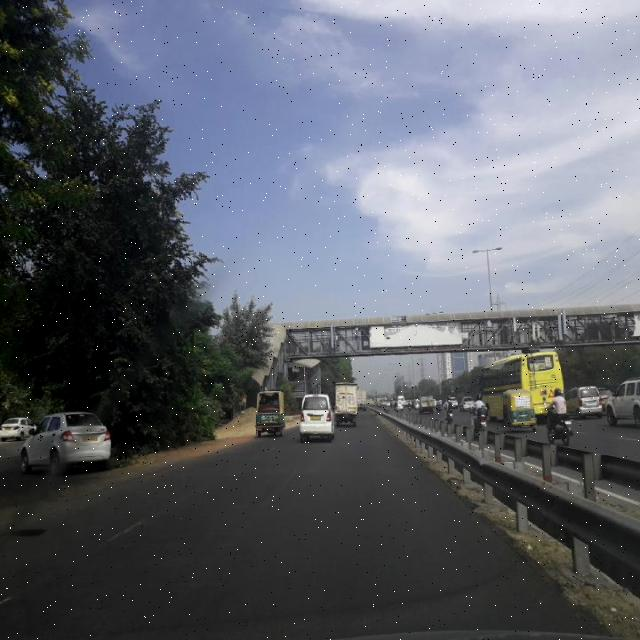D44: (97, 514, 152, 546)
